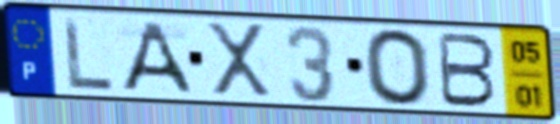3: (284, 21, 336, 105)
A: (117, 19, 196, 96)
B: (436, 30, 499, 110)
L: (60, 13, 118, 92)
O: (361, 26, 435, 109)
X: (202, 19, 275, 99)
